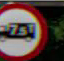Heavy Vehicles: (0, 2, 49, 59)
